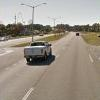Car: (21, 36, 52, 68)
